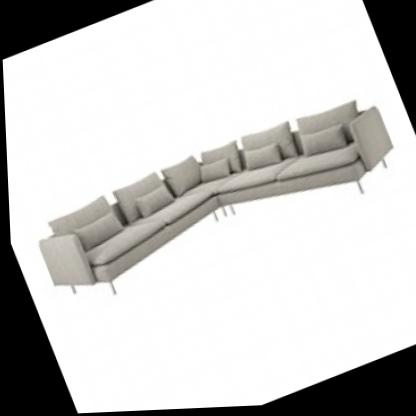Sofa: (6, 62, 415, 328)
